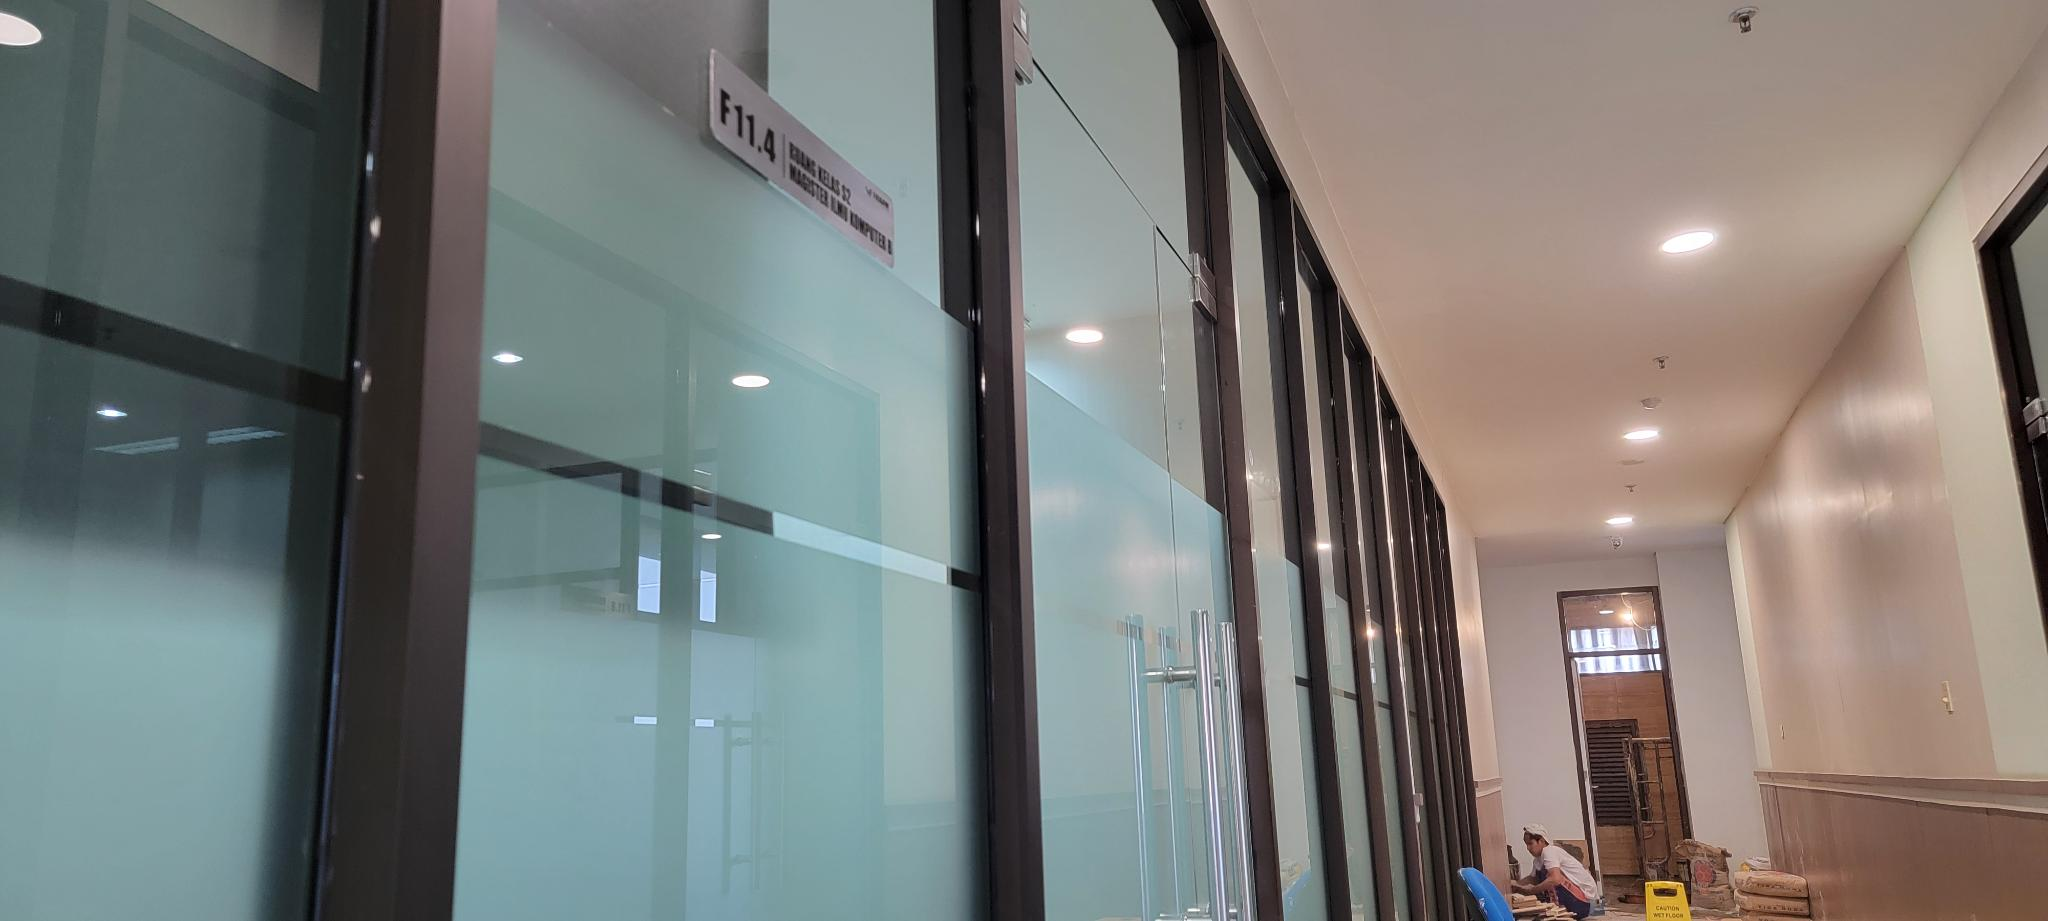plate: (707, 44, 897, 278)
